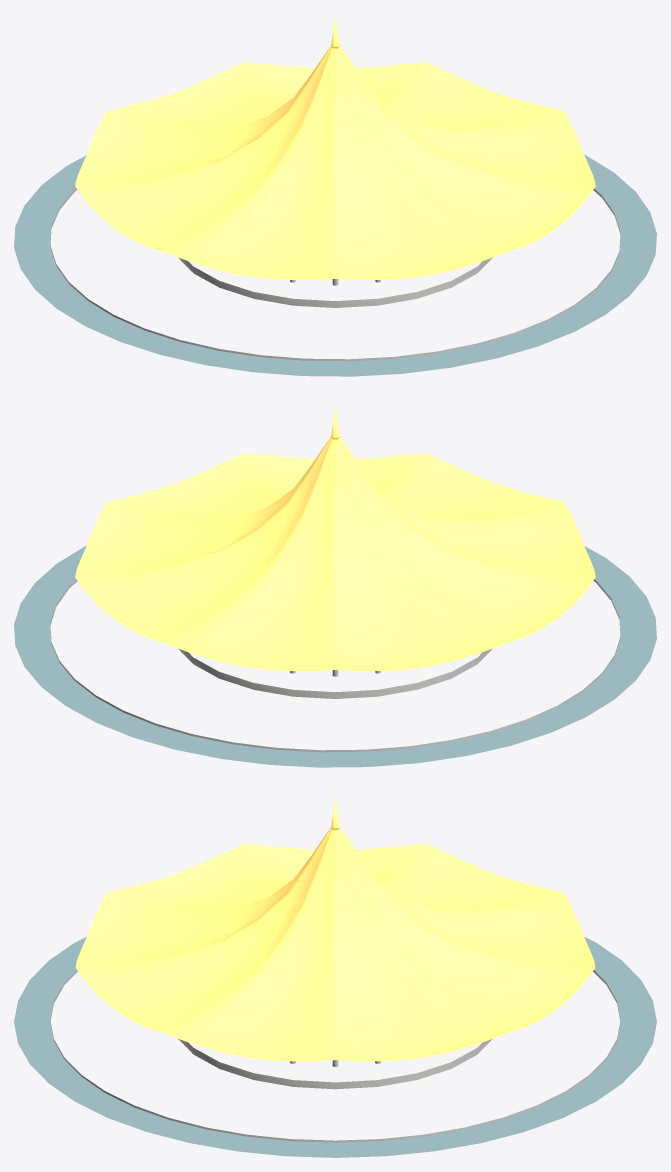
The model's file is dun-sarawak.glb.
The picture shows the model from 3 angles, top to bottom: view 1: azimuth 30°, elevation 25°; view 2: azimuth 150°, elevation 25°; view 3: azimuth 270°, elevation 25°; orthographic projection.
Parts seen in each view (by area): view 1: DewanUndanganNegeri; view 2: DewanUndanganNegeri; view 3: DewanUndanganNegeri.
Boxes of the visible parts, x1,y1,x2,y2 form: DewanUndanganNegeri: (14, 14, 656, 376); DewanUndanganNegeri: (14, 405, 656, 767); DewanUndanganNegeri: (14, 796, 656, 1157).
Bounding box in the file's own units: 106 × 41.2 × 106.
